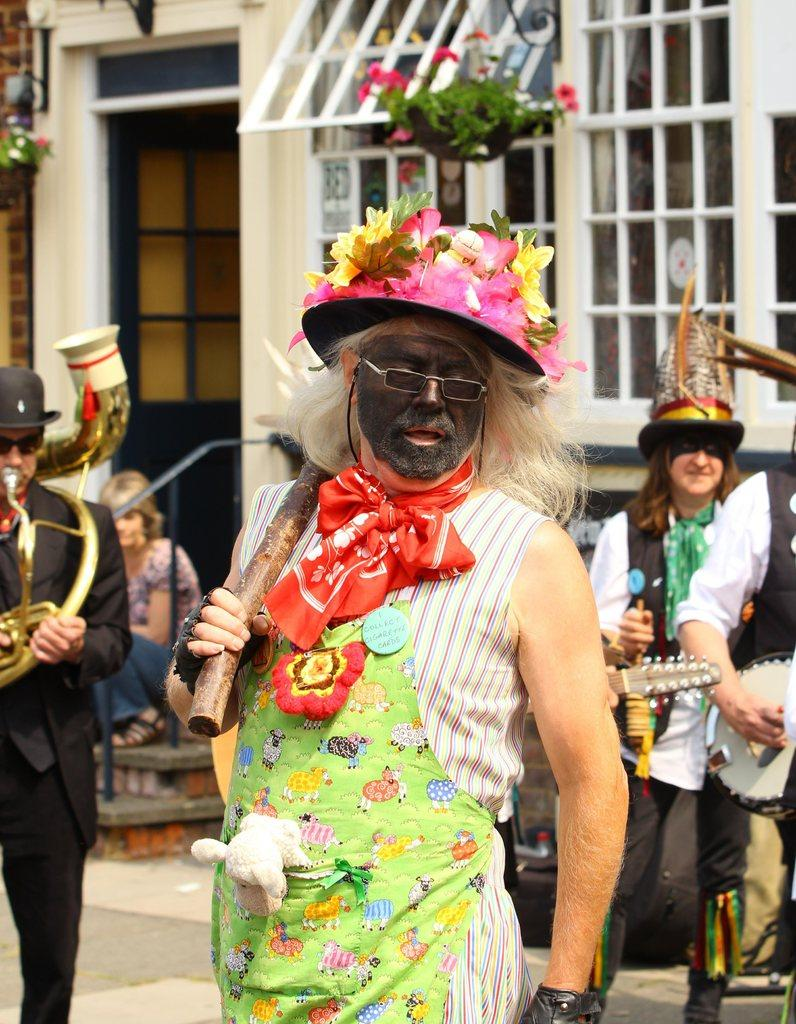Hat: (298, 188, 578, 388), (635, 278, 742, 458), (0, 366, 61, 431)
